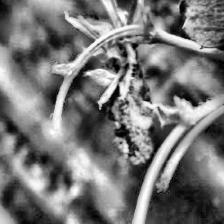Gray Mold: (66, 0, 156, 168)
